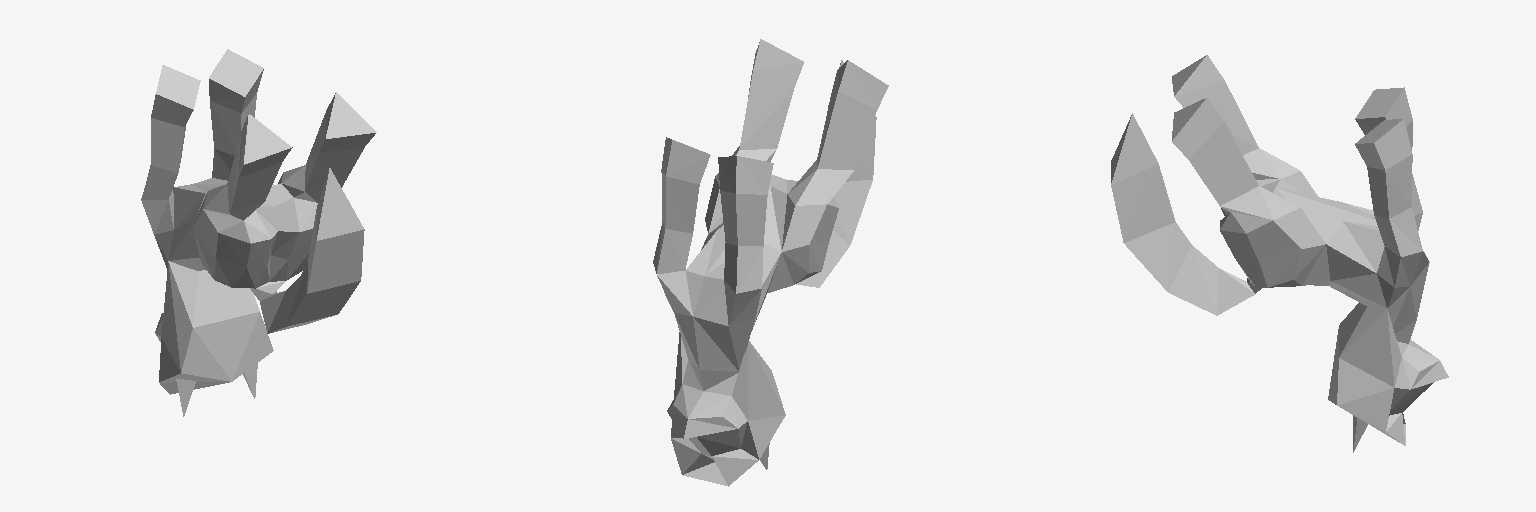
The model's file is PONY_000014.obj.
3 views of the same model, side by side, from view 1: azimuth 30°, elevation 25°; view 2: azimuth 150°, elevation 25°; view 3: azimuth 270°, elevation 25° (orthographic).
Visible parts, largest first — view 1: pony; view 2: pony; view 3: pony.
Part boxes in pixels (bbox=[...]): pony: bbox=[141, 49, 376, 416]; pony: bbox=[653, 39, 888, 486]; pony: bbox=[1111, 55, 1448, 452].
Bounding box in the file's own units: 3.87 × 9.99 × 8.5.